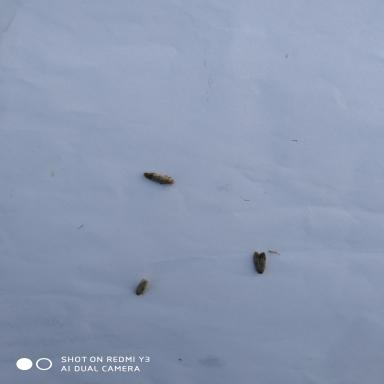pbw: (141, 170, 178, 191), (251, 250, 269, 276), (132, 276, 150, 298)
